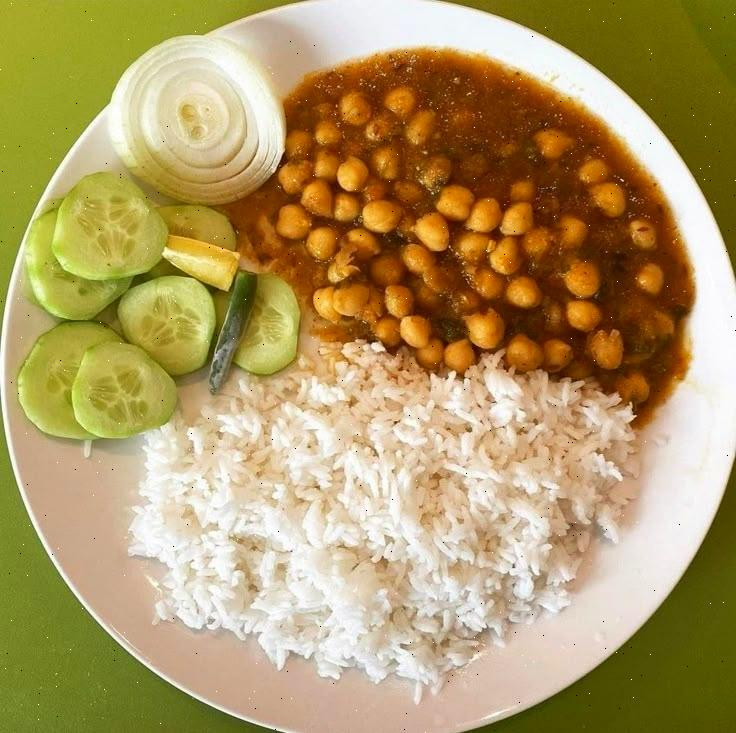chole: (292, 111, 664, 349)
rice: (180, 381, 613, 640)
salad: (65, 82, 289, 414)
